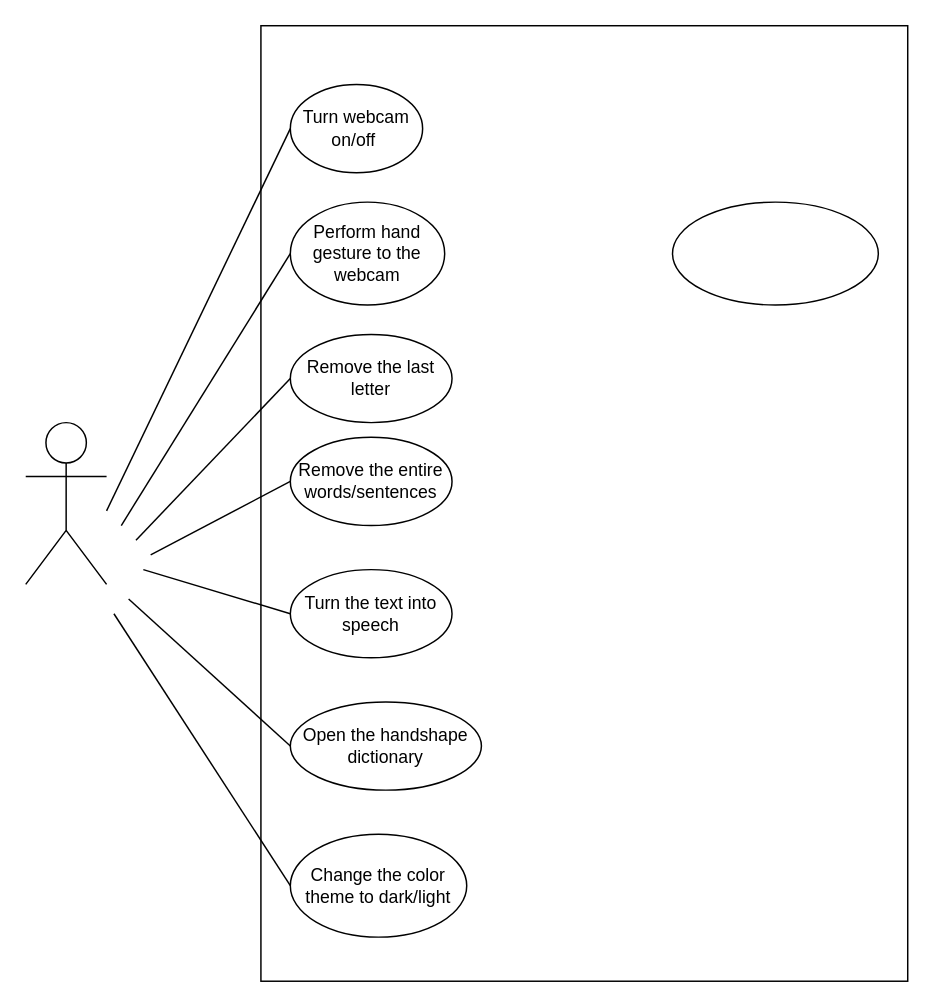
Some shapes in this 933 by 1007 pixel diagram are drawn without their labels. Here are the shapes that lost their labels. From the top down, the centre of each, then its label:
At point (774, 253): "MediaPipe Handpose Model and Fingerpose Algorithm".
At point (65, 502): "Actor".
